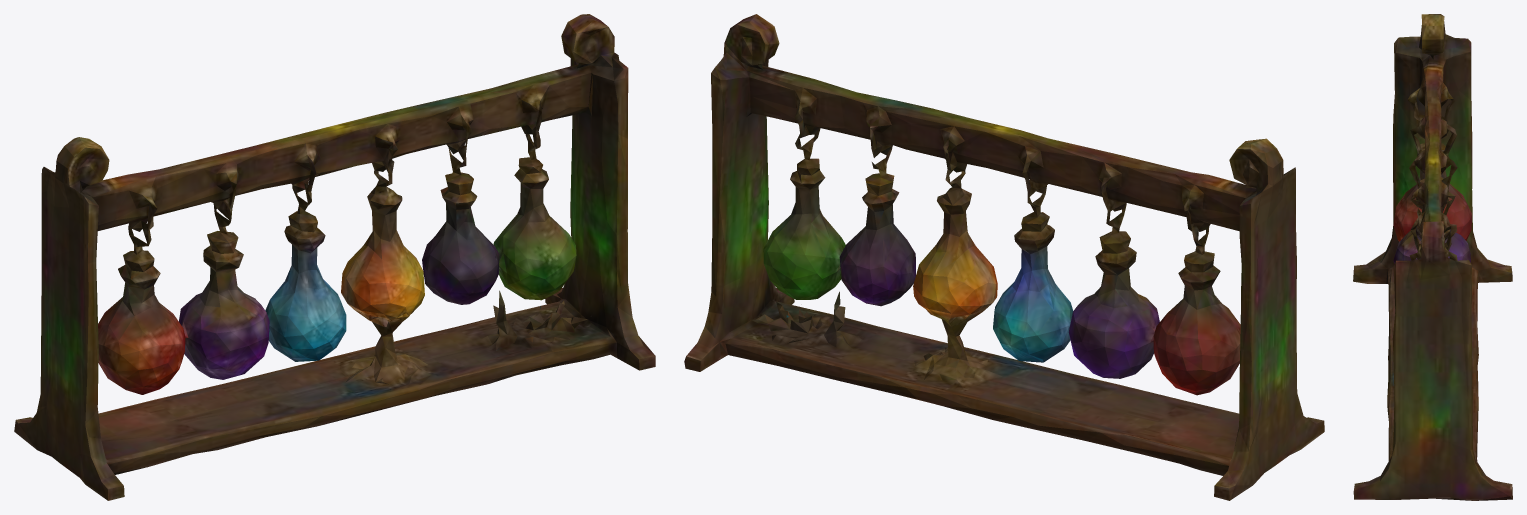
The model's file is rack_elixirs_lod0.glb.
3 views of the same model, side by side, from view 1: azimuth 30°, elevation 25°; view 2: azimuth 150°, elevation 25°; view 3: azimuth 270°, elevation 25° (orthographic). The views are drawn at different scales.
Parts seen in each view (by area): view 1: rack_elixirs_lod0; view 2: rack_elixirs_lod0; view 3: rack_elixirs_lod0.
Boxes of the visible parts, x1=… form: rack_elixirs_lod0: x1=14, y1=14, x2=655, y2=500; rack_elixirs_lod0: x1=684, y1=14, x2=1324, y2=500; rack_elixirs_lod0: x1=1353, y1=14, x2=1512, y2=500.
Bounding box in the file's own units: 1.1 × 0.6171 × 0.3299.
1 material, 1 textured.
